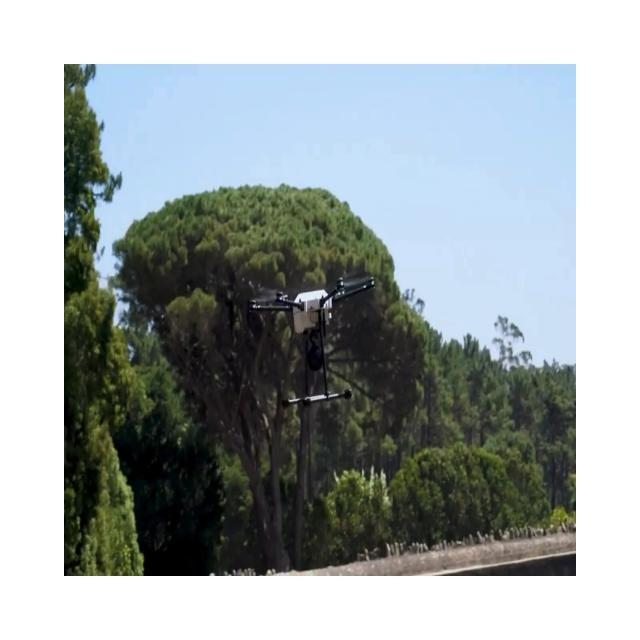drone: (247, 273, 376, 410)
